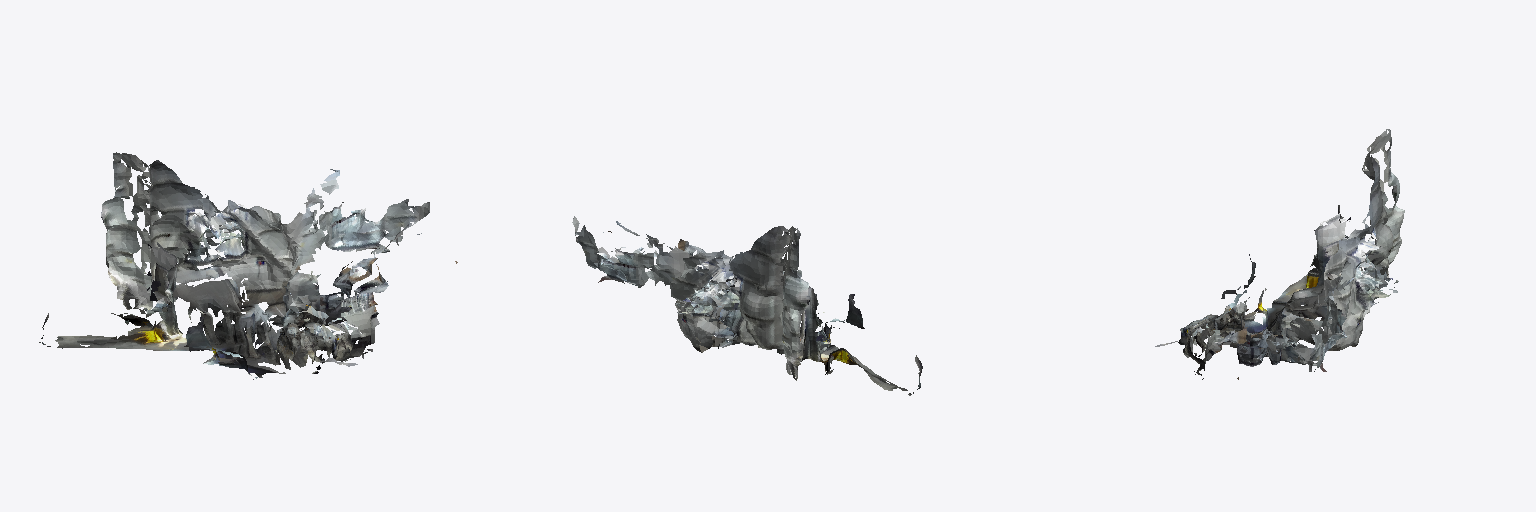
3 views of the same model, side by side, from view 1: azimuth 30°, elevation 25°; view 2: azimuth 150°, elevation 25°; view 3: azimuth 270°, elevation 25° (orthographic).
Bounding box in the file's own units: 13.64 × 6.59 × 8.07.
Materials: 1 (1 with a texture image).